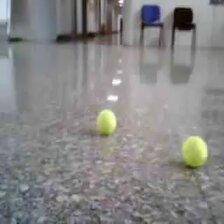tennis: (181, 135, 208, 165), (97, 109, 116, 134)
